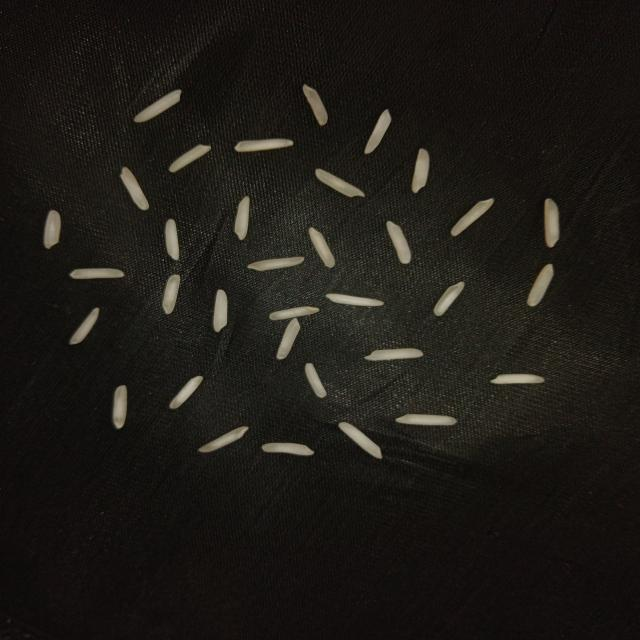Full: (451, 199, 493, 237), (339, 421, 382, 458), (314, 168, 366, 198), (134, 90, 180, 122), (197, 426, 250, 453), (121, 167, 150, 210), (168, 144, 210, 172), (364, 110, 390, 154), (526, 265, 553, 307), (170, 376, 202, 410), (71, 308, 101, 344), (386, 222, 411, 265), (302, 85, 328, 126), (309, 229, 335, 269), (276, 316, 300, 359), (435, 283, 465, 317), (411, 148, 430, 193), (234, 138, 294, 152), (325, 292, 384, 306), (247, 256, 306, 270), (544, 199, 560, 249), (305, 364, 327, 398), (261, 443, 314, 457), (397, 414, 458, 426), (163, 274, 181, 314), (235, 196, 251, 240), (43, 210, 60, 250), (112, 384, 127, 429), (268, 307, 318, 320), (363, 349, 422, 360), (213, 289, 228, 332), (489, 373, 545, 384), (70, 269, 126, 280), (166, 218, 180, 260)
